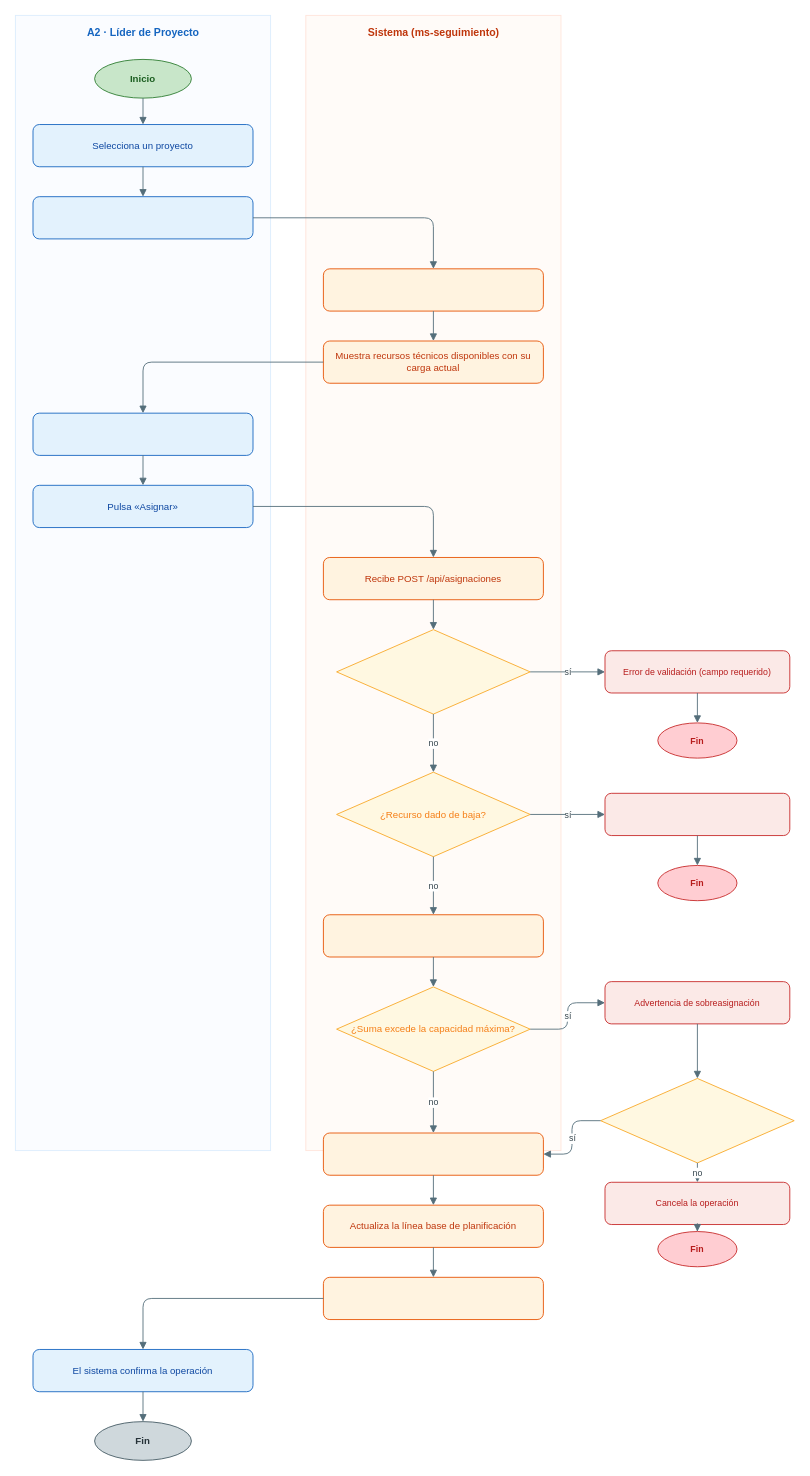
Some shapes in this 810 by 1476 pixel diagram are drawn without their labels. Here are the shapes that lost their labels. From the top down, the centre of each, then its label:
the point at 142,217: Selecciona el rango temporal de la asignación
the point at 433,289: Consulta msa_usuario y mss_asignacion
the point at 142,433: Selecciona un recurso e indica la dedicación por periodo
the point at 433,671: ¿Faltan datos obligatorios?
the point at 697,814: Error de recurso inexistente
the point at 433,935: Calcula la suma de asignaciones del recurso en el periodo
the point at 697,1120: ¿El Líder confirma?
the point at 433,1153: Persiste la asignación
the point at 433,1298: Actualiza la vista agregada de carga
